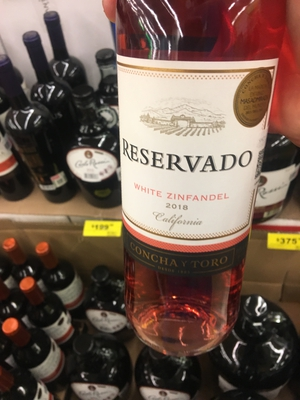reservado white zinfandel: (108, 4, 274, 357)
